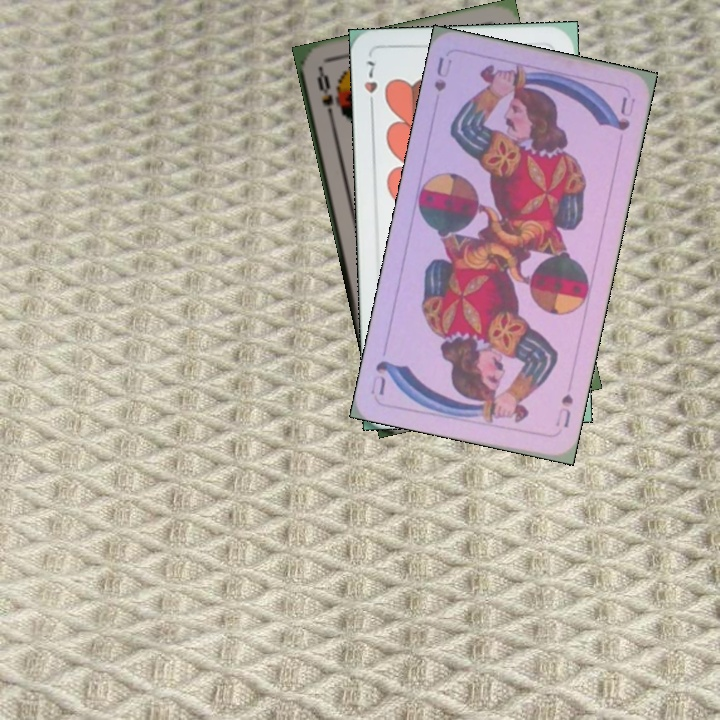H7: (360, 57, 380, 113)
SO: (313, 66, 337, 125)
SU: (430, 53, 455, 94), (551, 389, 576, 430)
